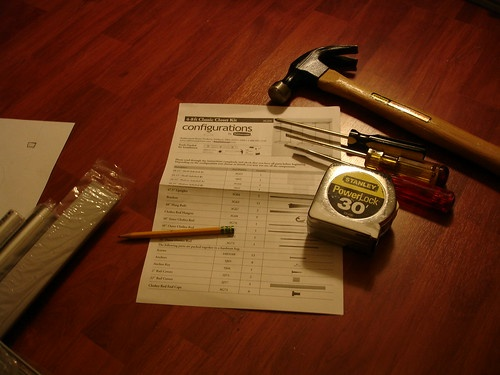hammer: (267, 41, 500, 168)
